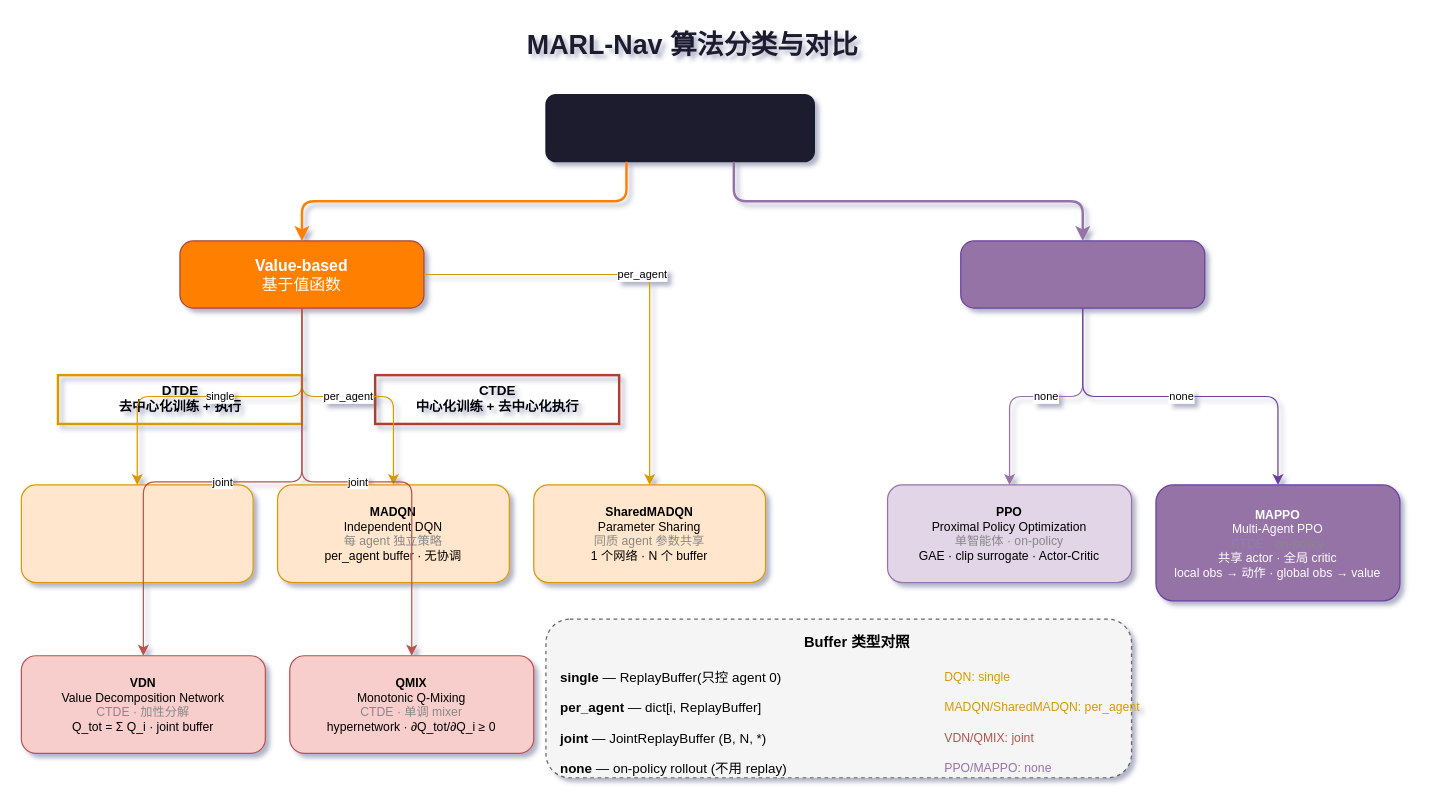
Image size: 1429x811. Some labels were removed from this diagram. Here are the shapes that lost their labels. From the top down, the box of each, then its label:
(545, 93, 814, 162): 强化学习算法 Reinforcement Learning
(960, 240, 1205, 308): Policy-based 基于策略函数
(20, 484, 253, 583): DQN Deep Q-Network 单智能体 · 入门首选 epsilon-greedy · target net · replay
